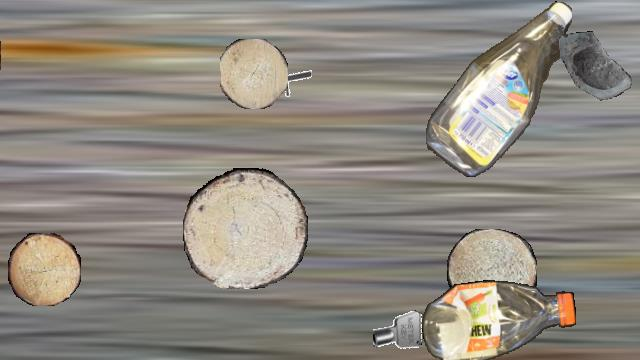glass: (559, 31, 640, 113)
metal: (373, 306, 423, 356), (274, 61, 312, 99)
plastic: (426, 1, 572, 177), (422, 279, 576, 359)
wood: (183, 168, 307, 288), (447, 229, 537, 313), (8, 233, 80, 305), (220, 39, 288, 109)
